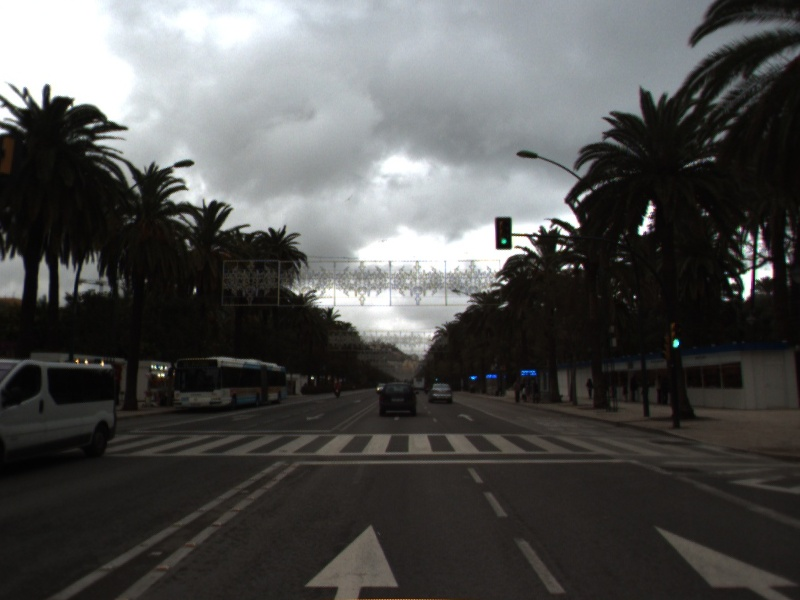STRAIGHT: (650, 521, 800, 599), (300, 520, 401, 600), (455, 411, 475, 423)
